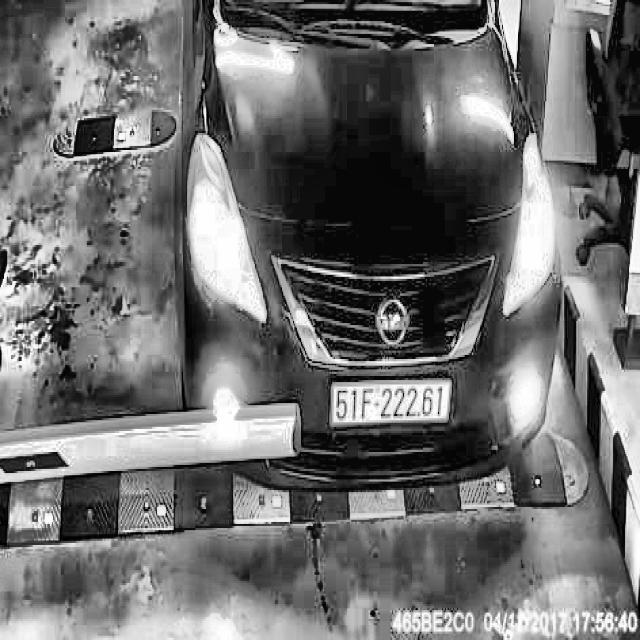plate: (328, 373, 456, 431)
